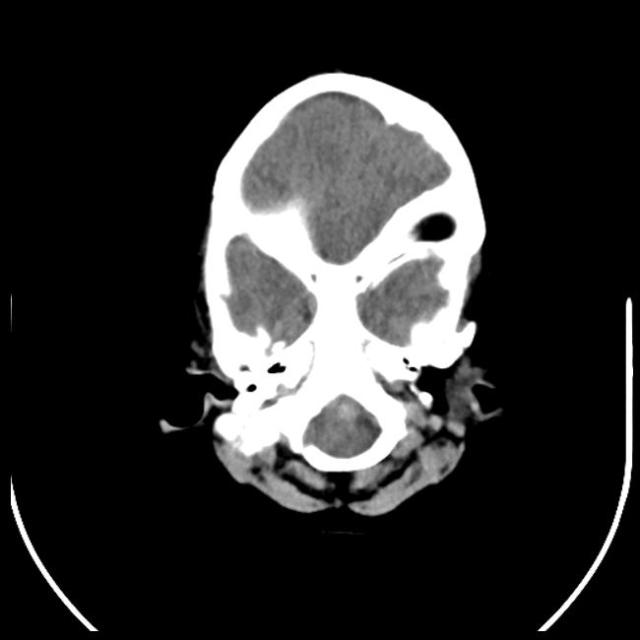lesion: (354, 296, 484, 429)
